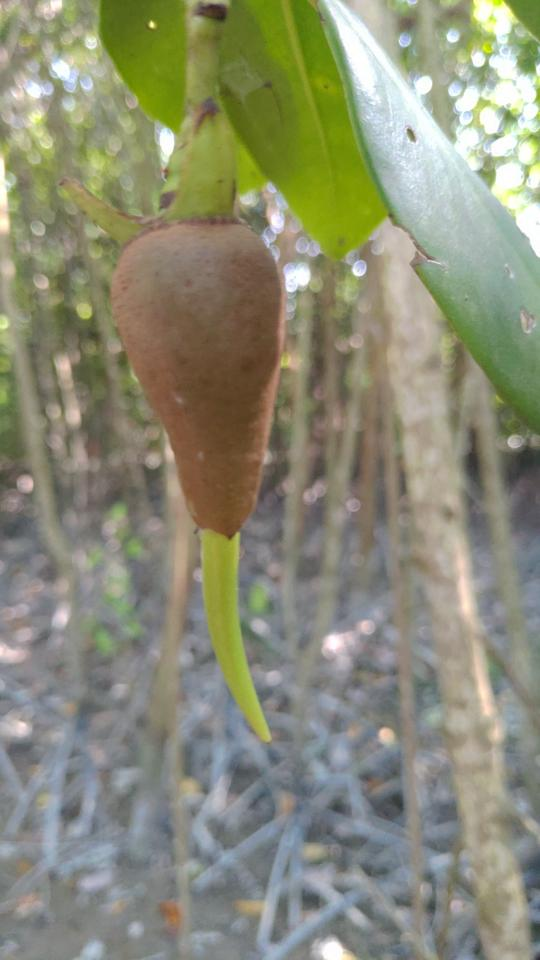mentah: (90, 138, 290, 758)
